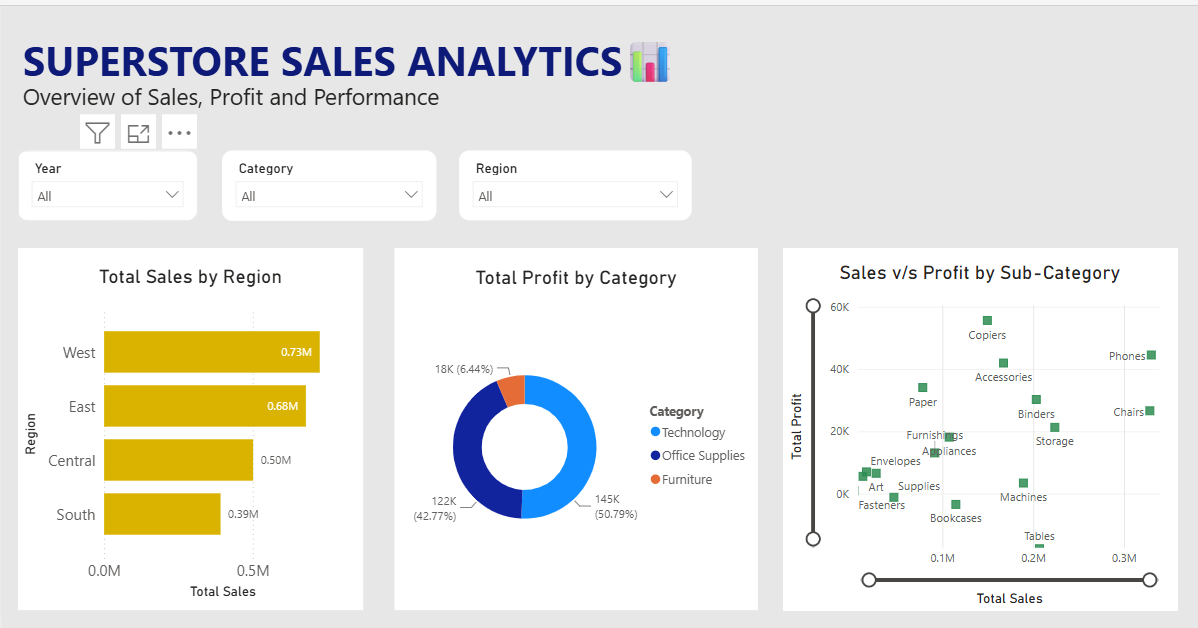

Layout of this report page (visuals, bound fields, positions):
{"tool":"powerbi","page":{"name":"Sales Analysis","canvas":[1280,720],"ordinal":1},"visuals":[{"type":"textbox","box":[15.9,74.8,742.8,74.8],"z":0},{"type":"textbox","box":[15.9,125.7,485.1,46.1],"z":1000},{"type":"slicer","fields":{"Values":["DateTable.Date.Variation.Date Hierarchy.Year"]},"box":[15.9,205.2,190.3,74.2],"z":2000},{"type":"slicer","fields":{"Values":["superstore.Category"]},"box":[232.2,205.2,227.5,74.8],"z":3000},{"type":"slicer","fields":{"Values":["superstore.Region"]},"box":[483.5,205.2,246.8,74.2],"z":4000},{"type":"clusteredBarChart","fields":{"Category":["superstore.Region"],"Y":["superstore.Total Sales"]},"box":[15.9,308.6,366.1,383.9],"z":5000},{"type":"scatterChart","title":"Sales v/s Profit by Sub-Category","fields":{"X":["superstore.Total Sales"],"Y":["superstore.Total Profit"],"Category":["superstore.Sub-Category"]},"box":[828.7,310.2,417.7,383.9],"z":6000},{"type":"donutChart","fields":{"Category":["superstore.Category"],"Y":["superstore.Total Profit"]},"box":[415.1,308.6,385.5,383.9],"z":7000}]}

Visuals, with their boxes on the page's 1280x720 design canvas (x1, y1, x2, y2). These are canvas units, not pixel positions in the 1198x628 screenshot, which may show the page scaled, cropped or inside an application window:
textbox: box(16, 75, 759, 150)
textbox: box(16, 126, 501, 172)
slicer - DateTable.Date.Variation.Date Hierarchy.Year: box(16, 205, 206, 279)
slicer - superstore.Category: box(232, 205, 460, 280)
slicer - superstore.Region: box(484, 205, 730, 279)
clusteredBarChart - superstore.Region x superstore.Total Sales: box(16, 309, 382, 692)
"Sales v/s Profit by Sub-Category" scatterChart: box(829, 310, 1246, 694)
donutChart - superstore.Category x superstore.Total Profit: box(415, 309, 801, 692)
